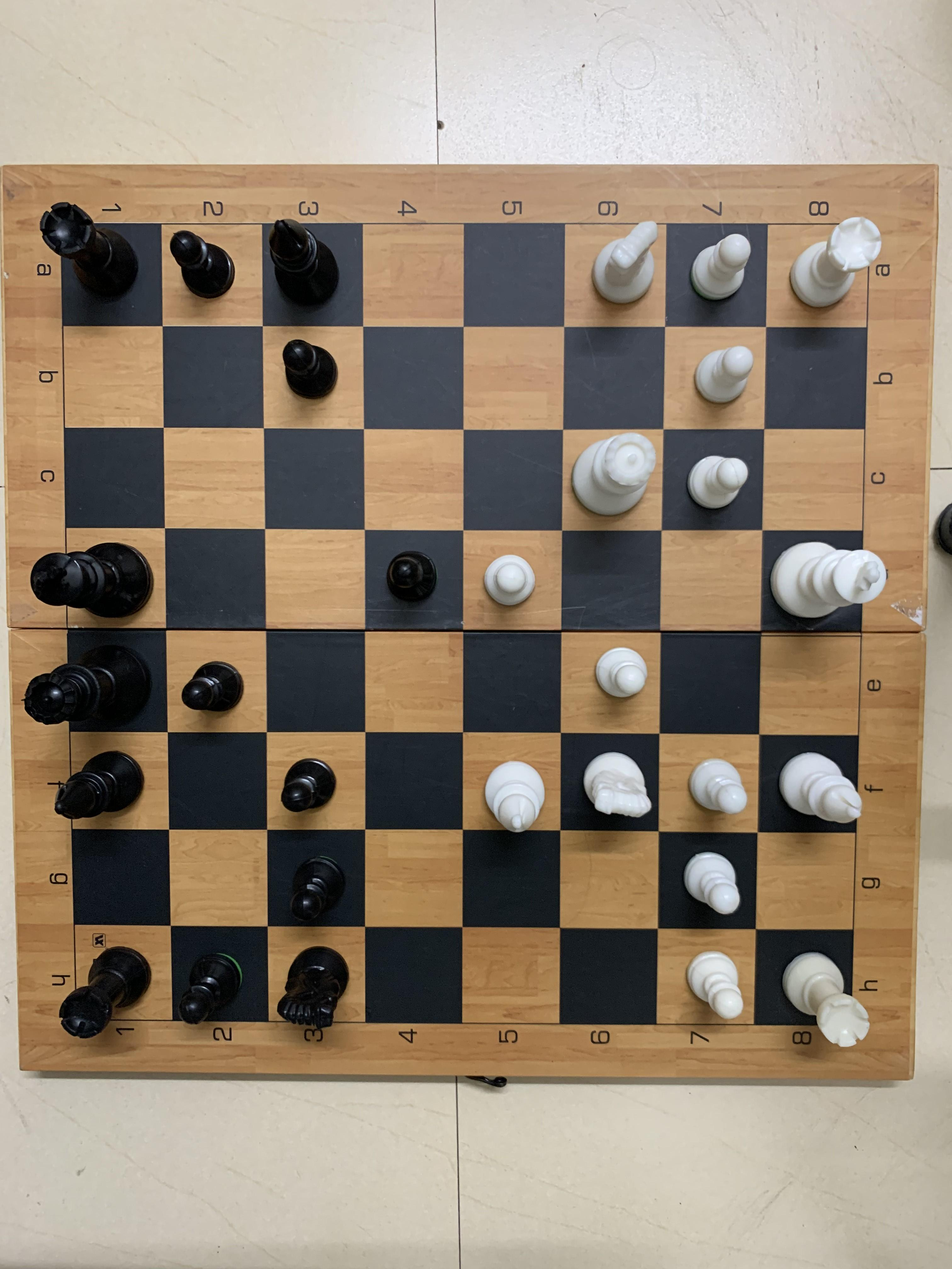black_bishop: (251, 216, 387, 317), (29, 752, 160, 824)
black_king: (20, 534, 157, 623)
black_knight: (274, 943, 362, 1034)
black_pawn: (167, 942, 250, 1032), (164, 224, 248, 303), (274, 333, 357, 407), (277, 846, 352, 920), (275, 753, 344, 823), (377, 539, 445, 608), (177, 657, 248, 717)
black_queen: (12, 652, 149, 739)
black_rook: (41, 936, 162, 1054), (34, 195, 148, 308)
white_bishop: (764, 734, 875, 838), (477, 754, 566, 834)
white_king: (763, 529, 889, 616)
white_knight: (575, 746, 663, 831), (584, 217, 664, 309)
white_pawn: (677, 341, 770, 407), (677, 849, 755, 918), (677, 948, 747, 1021), (686, 445, 756, 517), (690, 227, 753, 306), (685, 754, 747, 828), (591, 639, 651, 708), (479, 553, 547, 609)
white_queen: (565, 424, 662, 527)
white_rook: (776, 945, 883, 1057), (788, 213, 889, 314)
